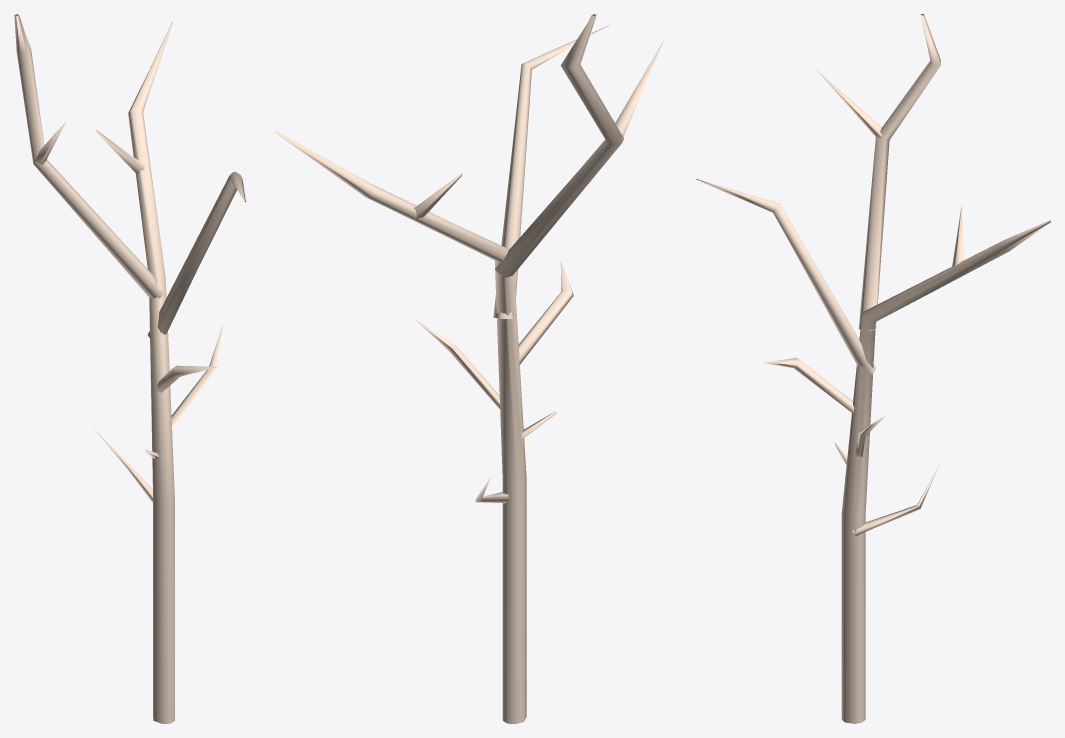
File: treeTrunk1.glb
3 views of the same model, side by side, from view 1: azimuth 30°, elevation 25°; view 2: azimuth 150°, elevation 25°; view 3: azimuth 270°, elevation 25° (orthographic). The views are drawn at different scales.
Parts seen in each view (by area): view 1: treeBody; view 2: treeBody; view 3: treeBody.
Boxes of the visible parts, box(x1,y1,x2,y2) form: treeBody: box(14, 14, 246, 723); treeBody: box(275, 14, 664, 723); treeBody: box(695, 14, 1050, 723).
Bounding box in the file's own units: 2.3 × 6.64 × 3.28.
Materials: 1 (1 with a texture image).
